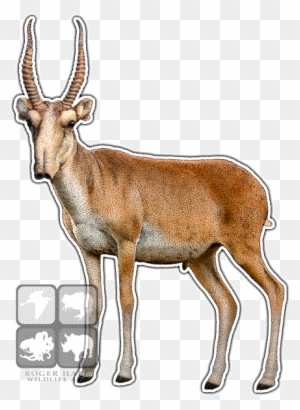saiga: (11, 13, 288, 392)
